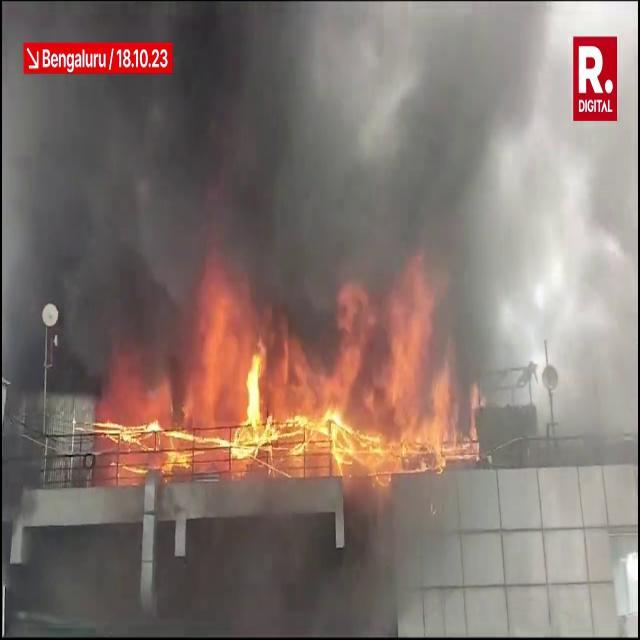Fire: (100, 341, 490, 478)
Smoke: (8, 2, 564, 426)
